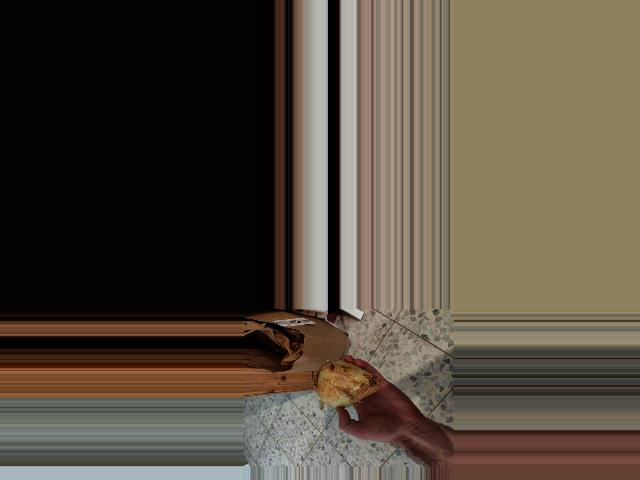onion: (313, 358, 382, 409)
